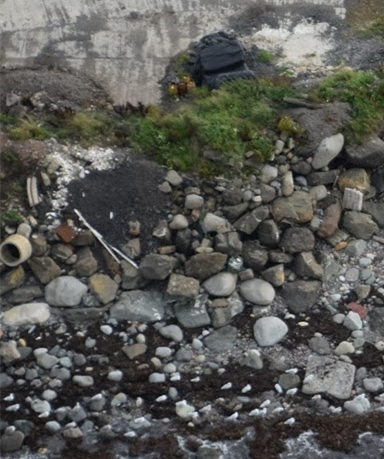together_barrel: (160, 70, 199, 100)
tube: (69, 208, 123, 267), (104, 240, 142, 271)
